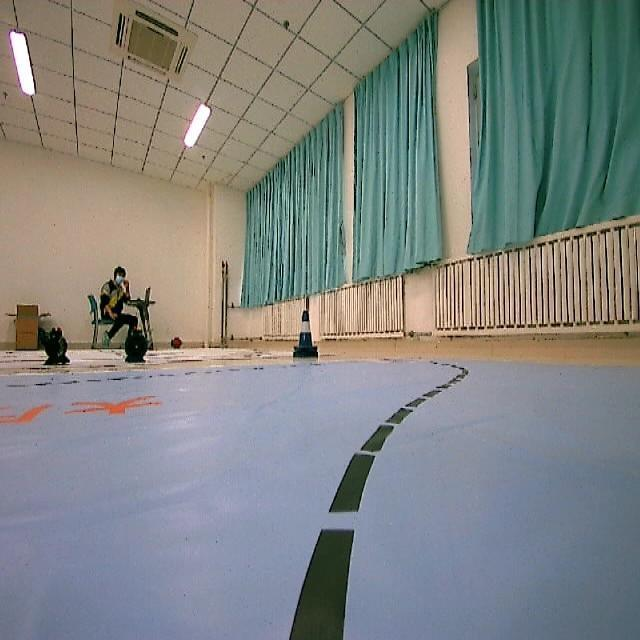obstacle: (290, 300, 322, 364)
